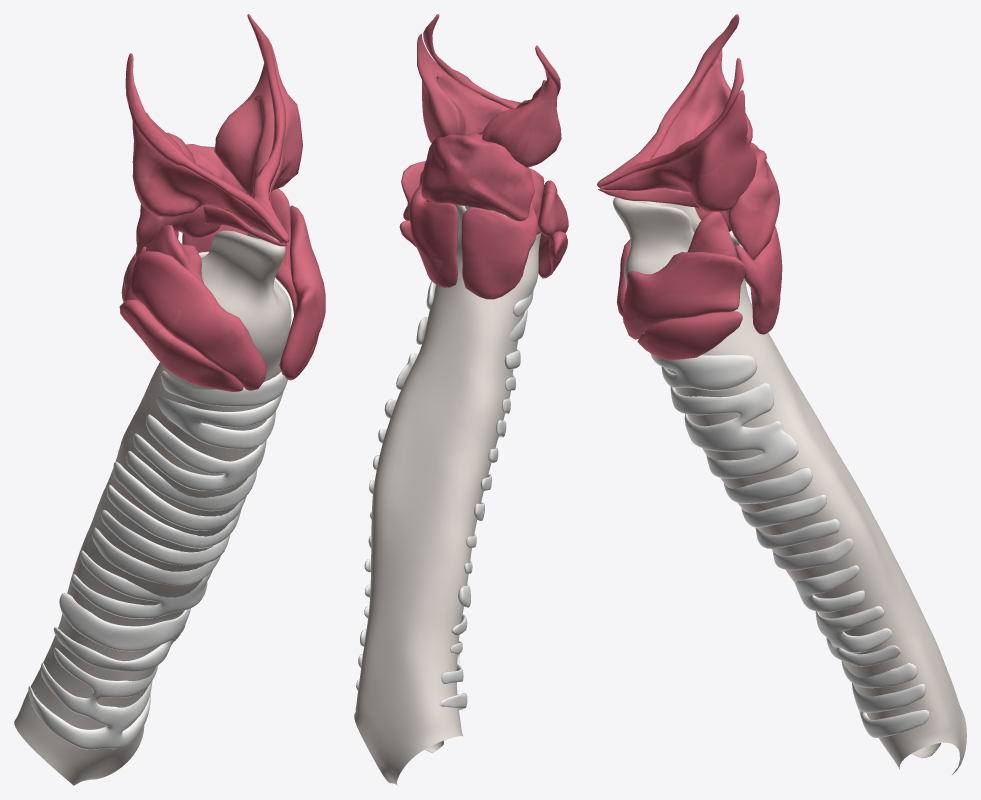
The model's file is 3d-vh-m-larynx-landmark.glb.
The picture shows the model from 3 angles, left to right: view 1: azimuth 30°, elevation 25°; view 2: azimuth 150°, elevation 25°; view 3: azimuth 270°, elevation 25°; orthographic projection. The views are drawn at different scales.
Visible parts, largest first — view 1: VH_M_larynx_landmark_trachea_tracheal_cartilage, VH_M_larynx_landmark_cricothyroids, VH_M_larynx_landmark_thyroarytenoids, VH_M_larynx_landmark_thyroepiglottideus, VH_M_larynx_landmark_arytenoid, VH_M_larynx_landmark_lateral_cricoarytenoids, VH_M_larynx_landmark_posterior_cricoarytenoids, VH_M_larynx_landmark_vocalis; view 2: VH_M_larynx_landmark_trachea_tracheal_cartilage, VH_M_larynx_landmark_posterior_cricoarytenoids, VH_M_larynx_landmark_thyroarytenoids, VH_M_larynx_landmark_arytenoid, VH_M_larynx_landmark_cricothyroids, VH_M_larynx_landmark_thyroepiglottideus, VH_M_larynx_landmark_lateral_cricoarytenoids; view 3: VH_M_larynx_landmark_trachea_tracheal_cartilage, VH_M_larynx_landmark_cricothyroids, VH_M_larynx_landmark_thyroarytenoids, VH_M_larynx_landmark_thyroepiglottideus, VH_M_larynx_landmark_arytenoid, VH_M_larynx_landmark_posterior_cricoarytenoids, VH_M_larynx_landmark_lateral_cricoarytenoids, VH_M_larynx_landmark_vocalis.
Boxes of the visible parts, bbox=[...] form: VH_M_larynx_landmark_trachea_tracheal_cartilage: bbox=[14, 226, 291, 785]; VH_M_larynx_landmark_cricothyroids: bbox=[119, 205, 325, 391]; VH_M_larynx_landmark_thyroarytenoids: bbox=[132, 36, 302, 242]; VH_M_larynx_landmark_thyroepiglottideus: bbox=[125, 14, 288, 242]; VH_M_larynx_landmark_arytenoid: bbox=[136, 144, 251, 256]; VH_M_larynx_landmark_lateral_cricoarytenoids: bbox=[146, 188, 296, 310]; VH_M_larynx_landmark_posterior_cricoarytenoids: bbox=[121, 225, 247, 302]; VH_M_larynx_landmark_vocalis: bbox=[203, 193, 288, 246]; VH_M_larynx_landmark_trachea_tracheal_cartilage: bbox=[354, 204, 541, 785]; VH_M_larynx_landmark_posterior_cricoarytenoids: bbox=[409, 183, 537, 299]; VH_M_larynx_landmark_thyroarytenoids: bbox=[417, 33, 561, 167]; VH_M_larynx_landmark_arytenoid: bbox=[421, 133, 534, 220]; VH_M_larynx_landmark_cricothyroids: bbox=[399, 161, 568, 278]; VH_M_larynx_landmark_thyroepiglottideus: bbox=[423, 14, 560, 109]; VH_M_larynx_landmark_lateral_cricoarytenoids: bbox=[419, 168, 544, 234]; VH_M_larynx_landmark_trachea_tracheal_cartilage: bbox=[613, 197, 966, 774]; VH_M_larynx_landmark_cricothyroids: bbox=[616, 239, 745, 359]; VH_M_larynx_landmark_thyroarytenoids: bbox=[600, 49, 756, 211]; VH_M_larynx_landmark_thyroepiglottideus: bbox=[597, 14, 743, 187]; VH_M_larynx_landmark_arytenoid: bbox=[726, 142, 779, 259]; VH_M_larynx_landmark_posterior_cricoarytenoids: bbox=[735, 225, 782, 334]; VH_M_larynx_landmark_lateral_cricoarytenoids: bbox=[687, 207, 737, 258]; VH_M_larynx_landmark_vocalis: bbox=[598, 188, 699, 208].
Size of the model in its own units: 0.0365 by 0.1575 by 0.0703.
